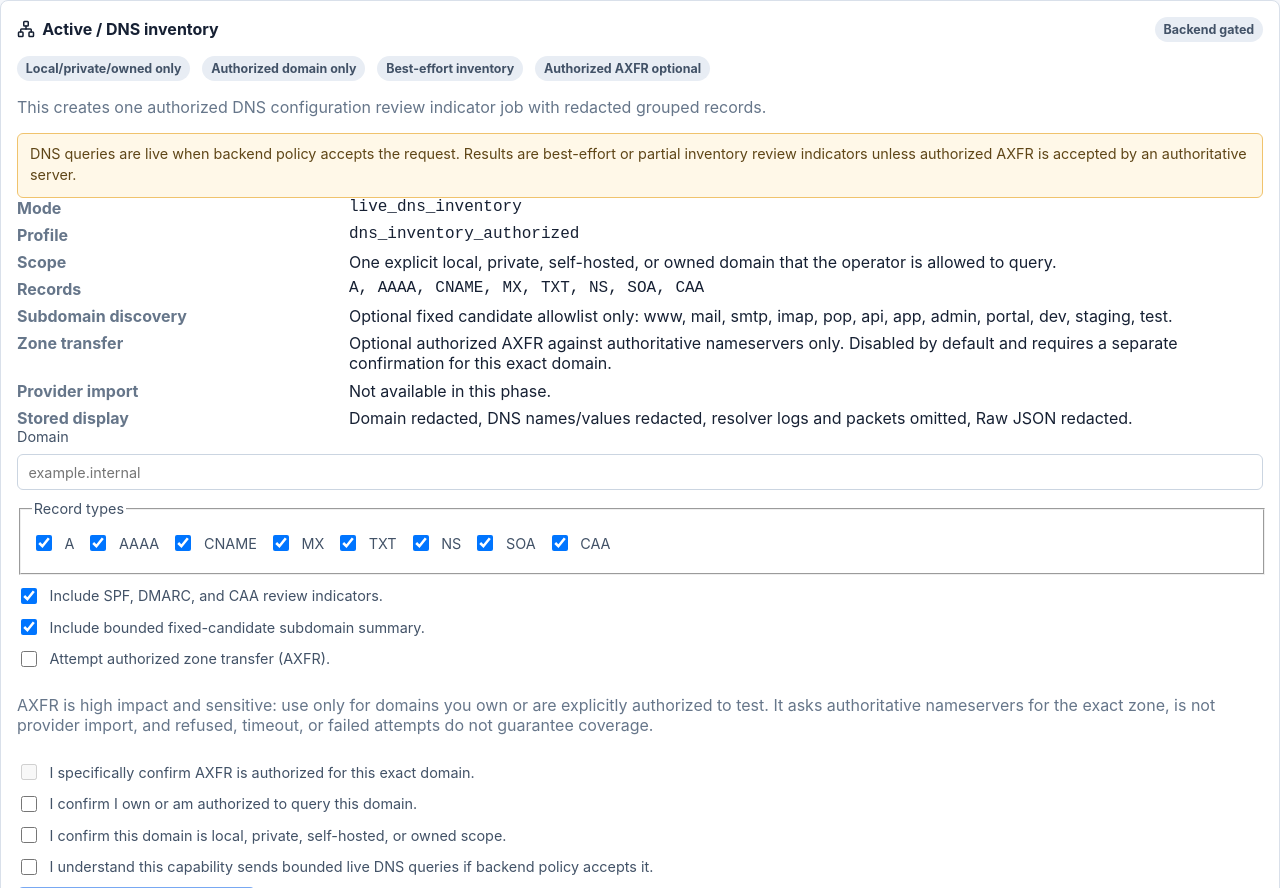
Test: ActiveDnsInventoryPanel › sends the exact backend contract body and renders a redacted JobRecord
Type " Example.Internal " into the field labelled "Domain" at (640, 472), box [17,454,1263,490]
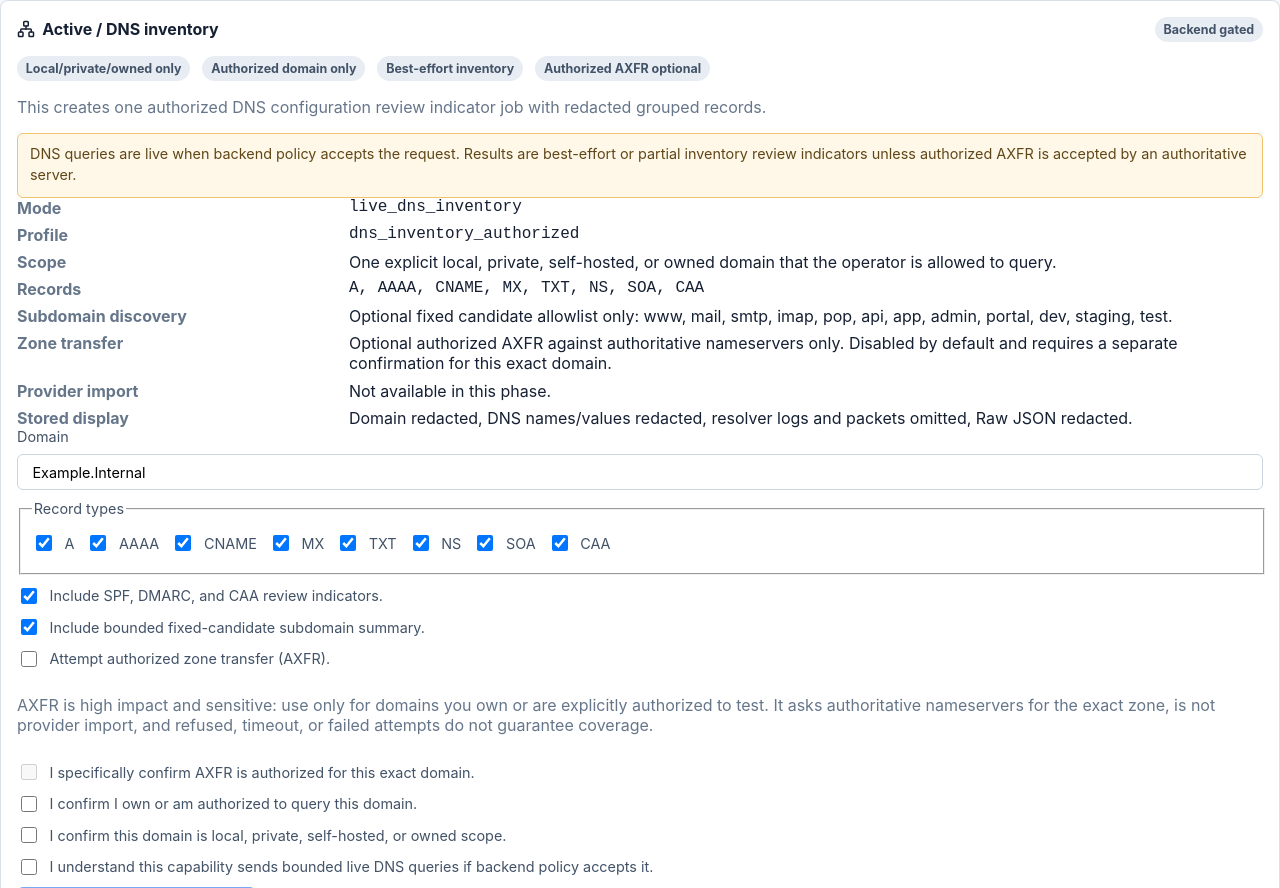
Click the checkbox labelled "I confirm I own or am authorized to query this domain." at (29, 804), box [21,796,37,812]
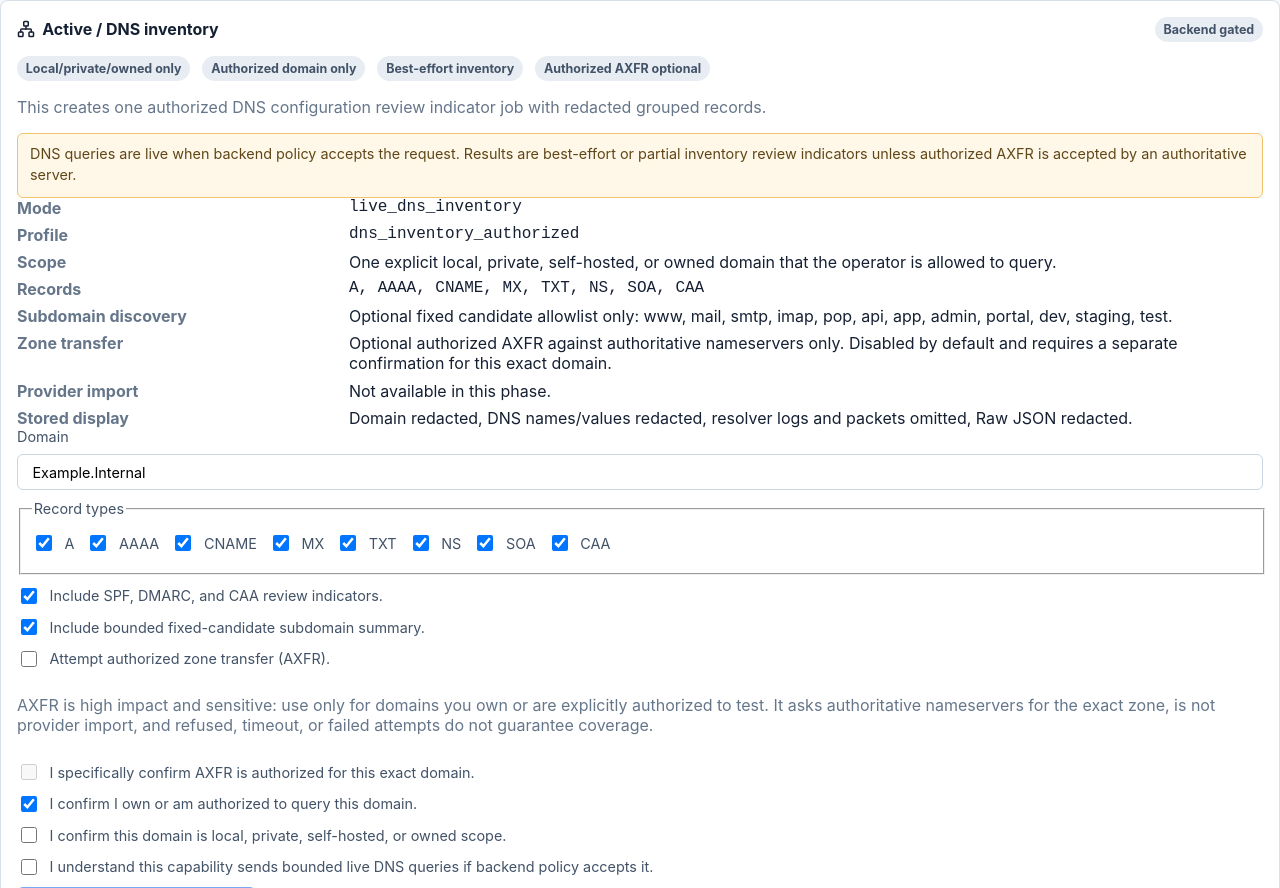
Click the checkbox labelled "I confirm this domain is local, private, self-hosted, or owned scope." at (29, 835), box [21,827,37,843]
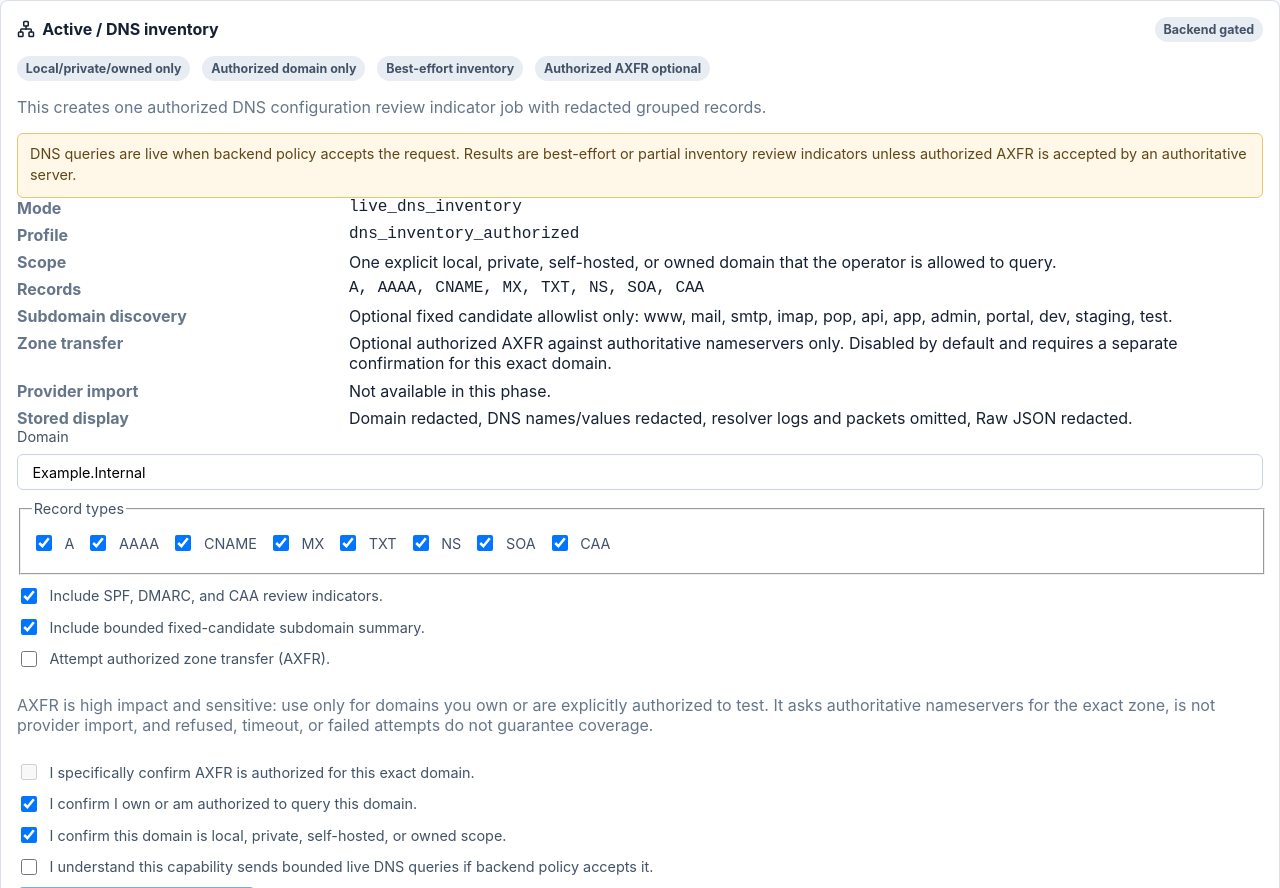
Click the checkbox named "I understand this capability sends bounded live DNS queries if backend policy accepts it." at (29, 867), box [21,859,37,875]
(page scrolled)
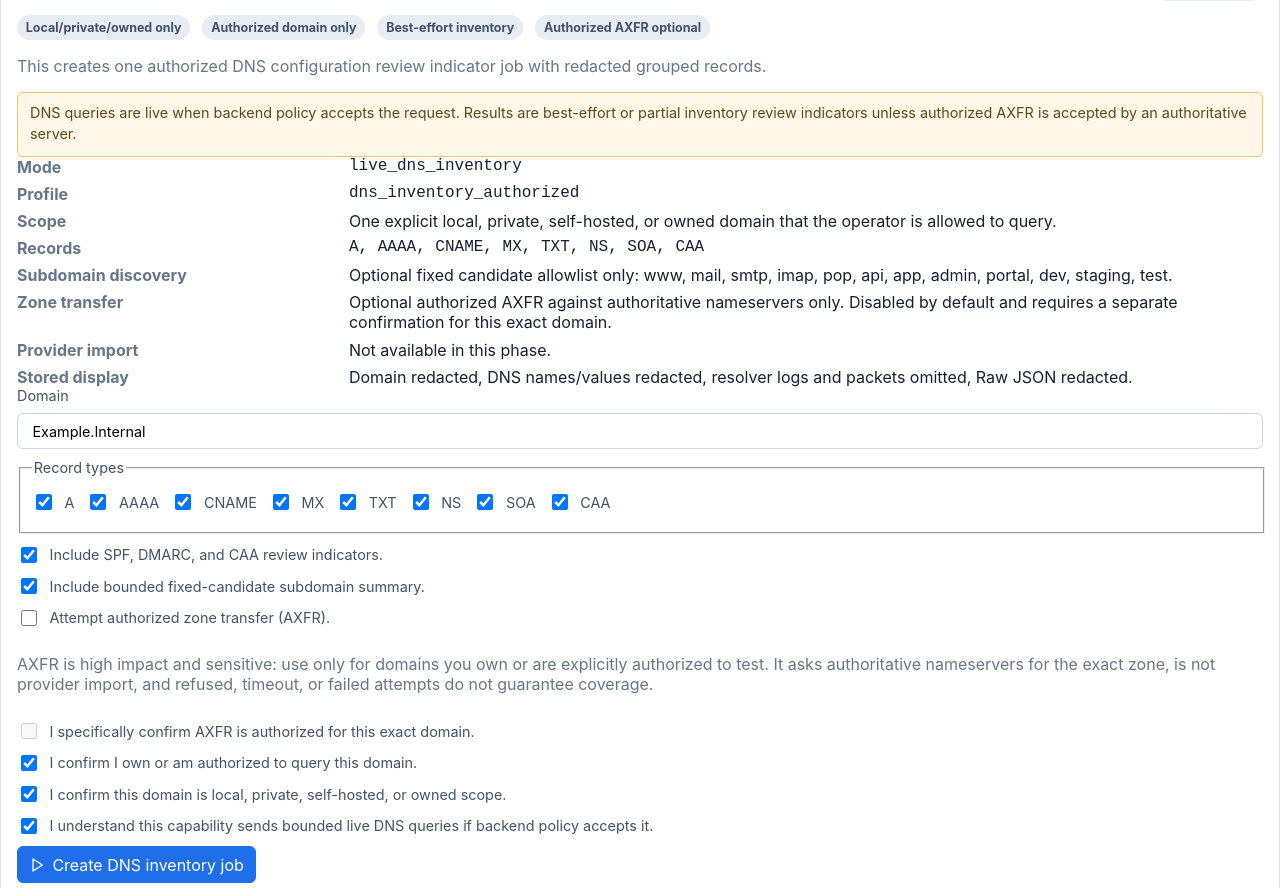
Click the button "Create DNS inventory job" at (136, 865), box [17,846,256,883]
(page scrolled)
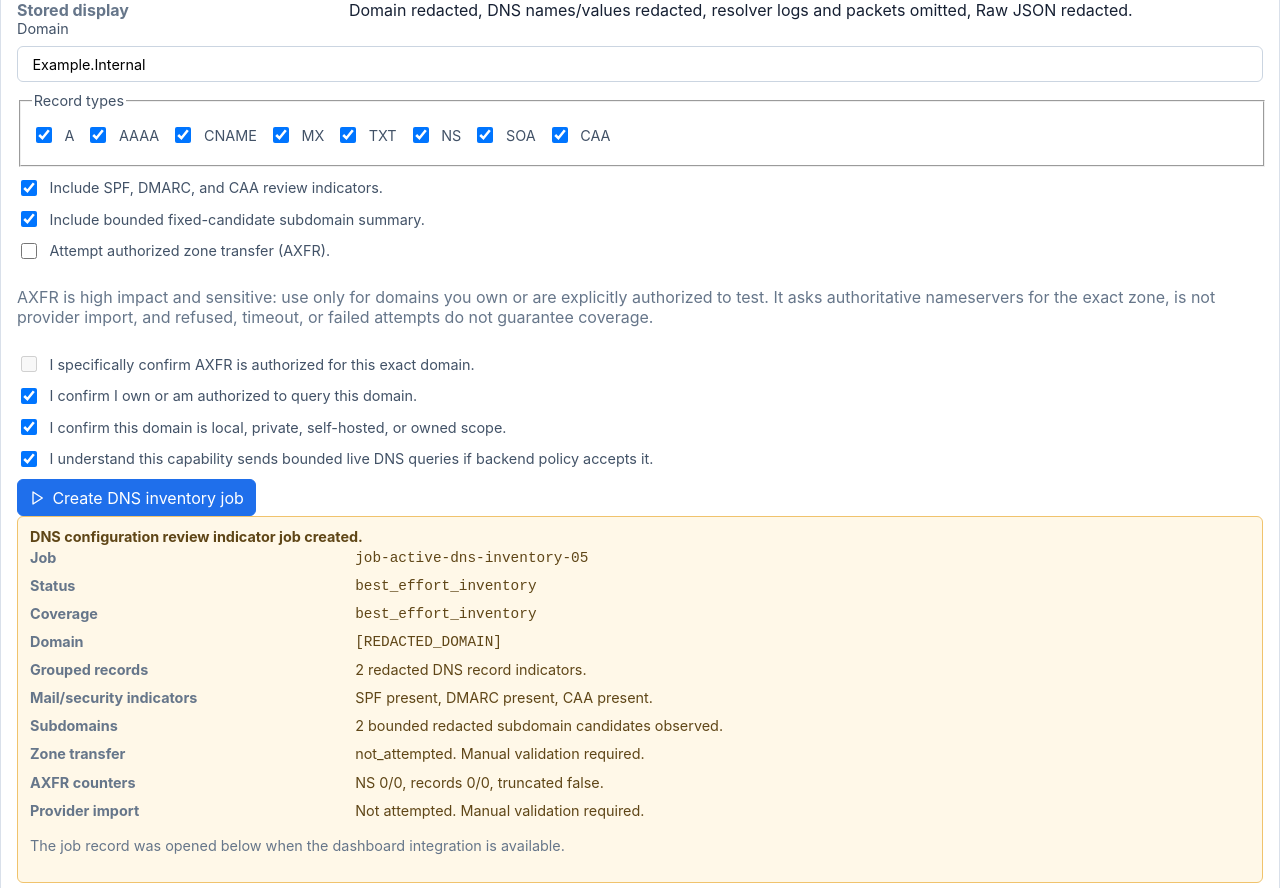
Expected: the text "DNS configuration review indicator job created." is shown, [30,528,363,545]
Expected: the text "job-active-dns-inventory-05" is shown, [355,550,588,566]
Expected: the 1st text "best_effort_inventory" is shown, [355,578,537,594]
